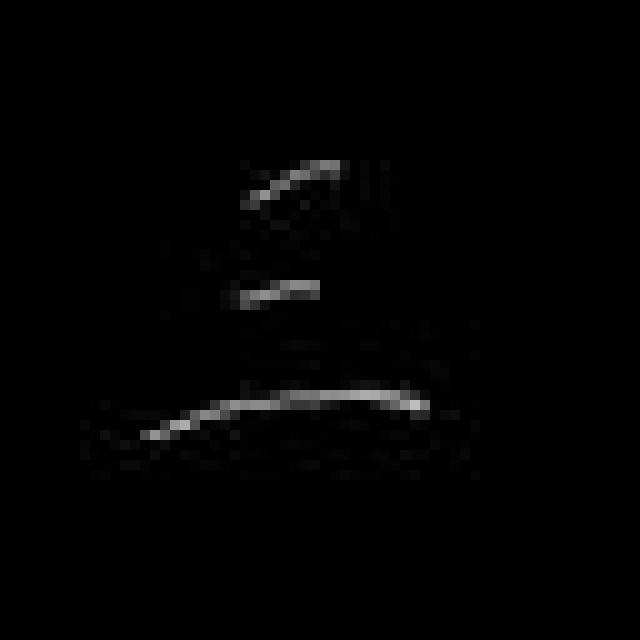3 -three-: (123, 141, 450, 454)
